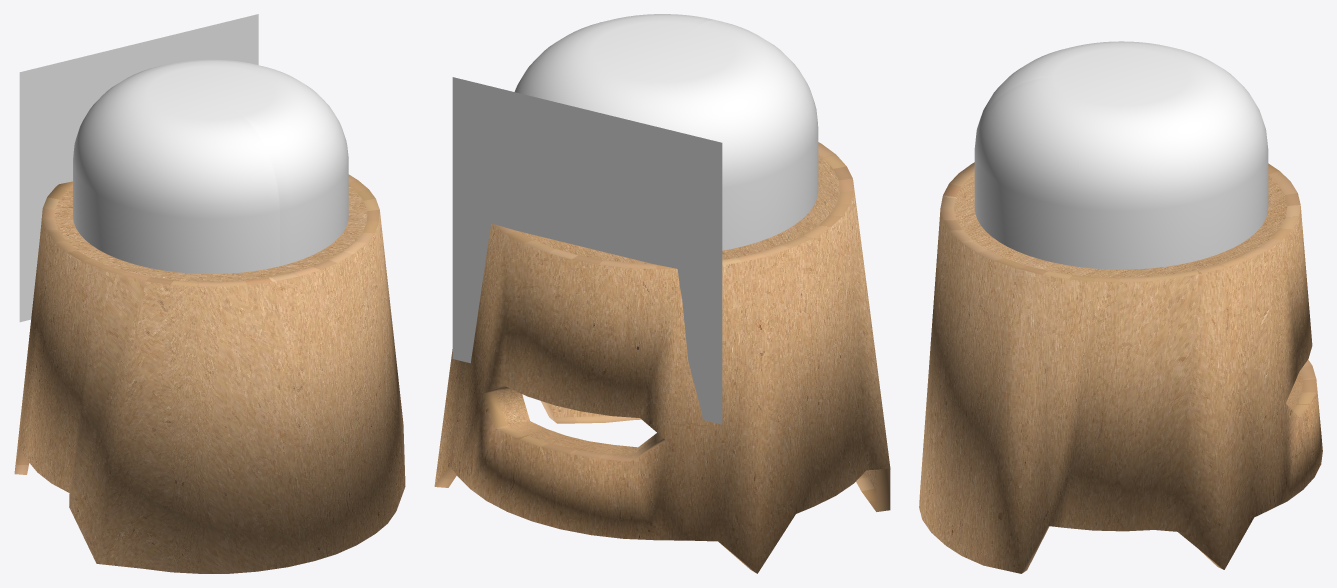
3 views of the same model, side by side, from view 1: azimuth 30°, elevation 25°; view 2: azimuth 150°, elevation 25°; view 3: azimuth 270°, elevation 25° (orthographic). The views are drawn at different scales.
Visible parts, largest first — view 1: cylinder, Head, Face; view 2: cylinder, Face, Head; view 3: cylinder, Head.
Boxes of the visible parts, bbox=[...] form: cylinder: bbox=[14, 174, 405, 573]; Head: bbox=[73, 59, 348, 273]; Face: bbox=[19, 14, 258, 322]; cylinder: bbox=[434, 142, 890, 573]; Face: bbox=[452, 77, 722, 424]; Head: bbox=[514, 14, 818, 250]; cylinder: bbox=[919, 162, 1322, 573]; Head: bbox=[974, 41, 1268, 269].
Size of the model in its own units: 0.9673 by 1.1 by 0.9457.
3 materials, 1 textured.
